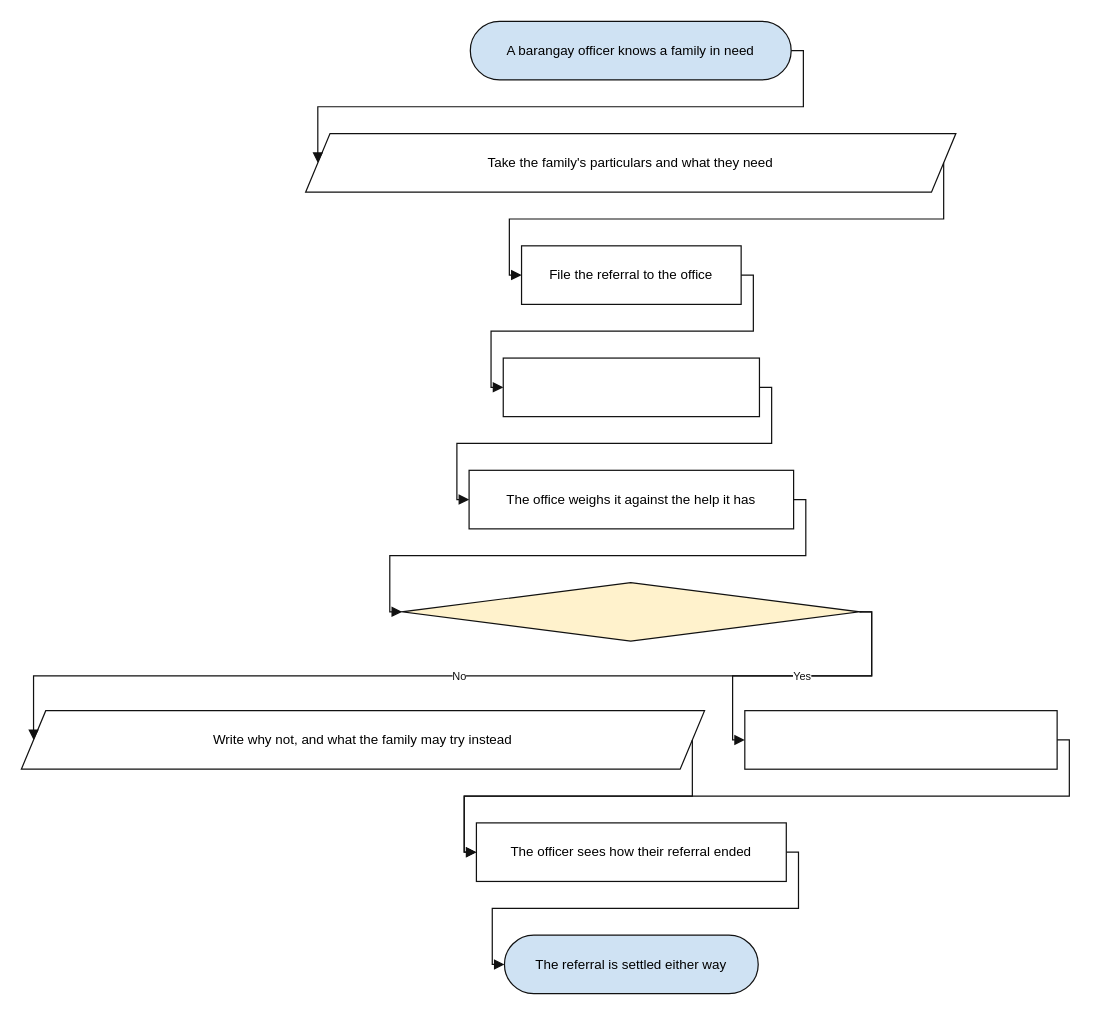
This 1100x1015 diagram has some shape labels left out. Each missing label, with the centre of its shape:
"Does the office take the family in?" goes at point 630,611.
"It waits in the office's referral list" goes at point 630,387.
"The family is taken in and a case begins" goes at point 900,739.
